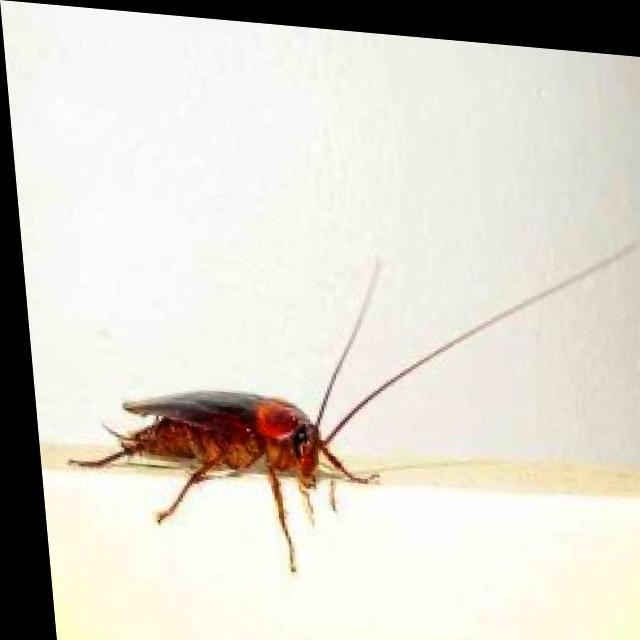cockroach: (67, 323, 428, 550)
